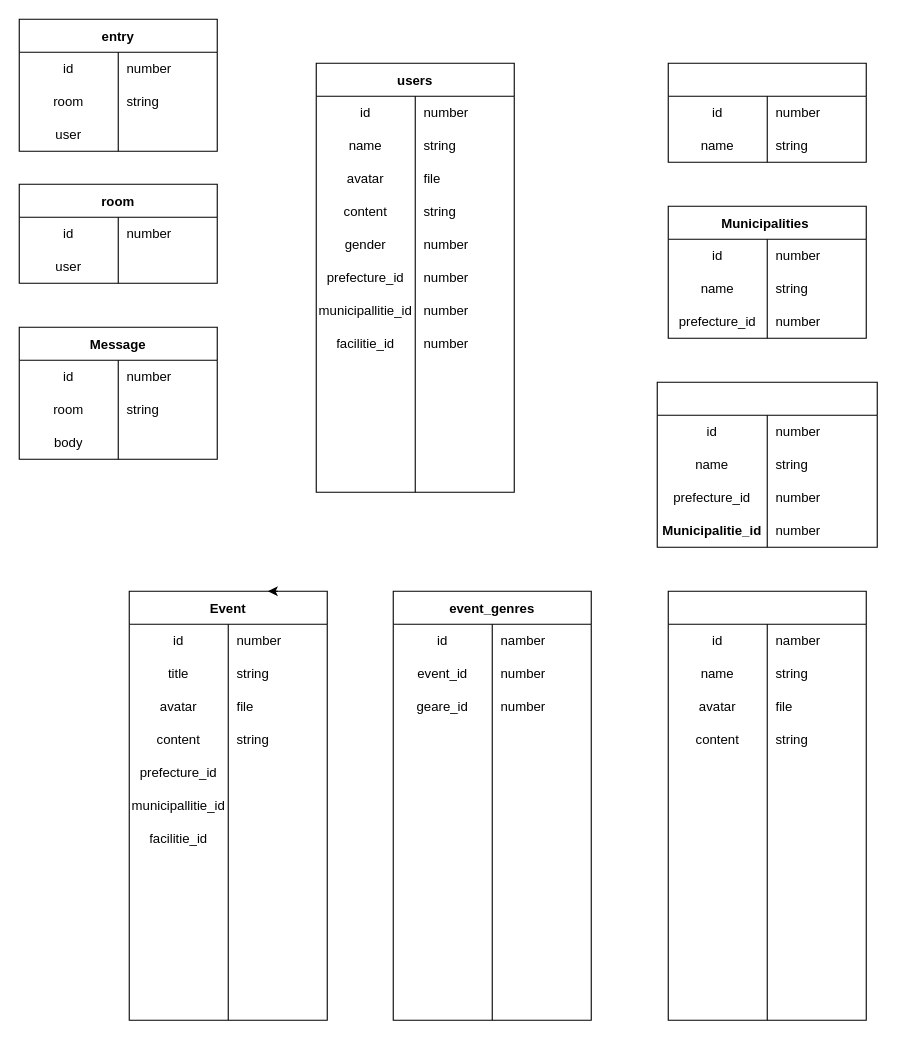
Image size: 897x1040. Some labels were removed from this diagram. The box of each missing label's shape, as (x1, y1, x2, y2) in pixels:
Facilities: (656, 381, 877, 547)
genre: (667, 590, 866, 1020)
Prefectures: (667, 62, 866, 162)
